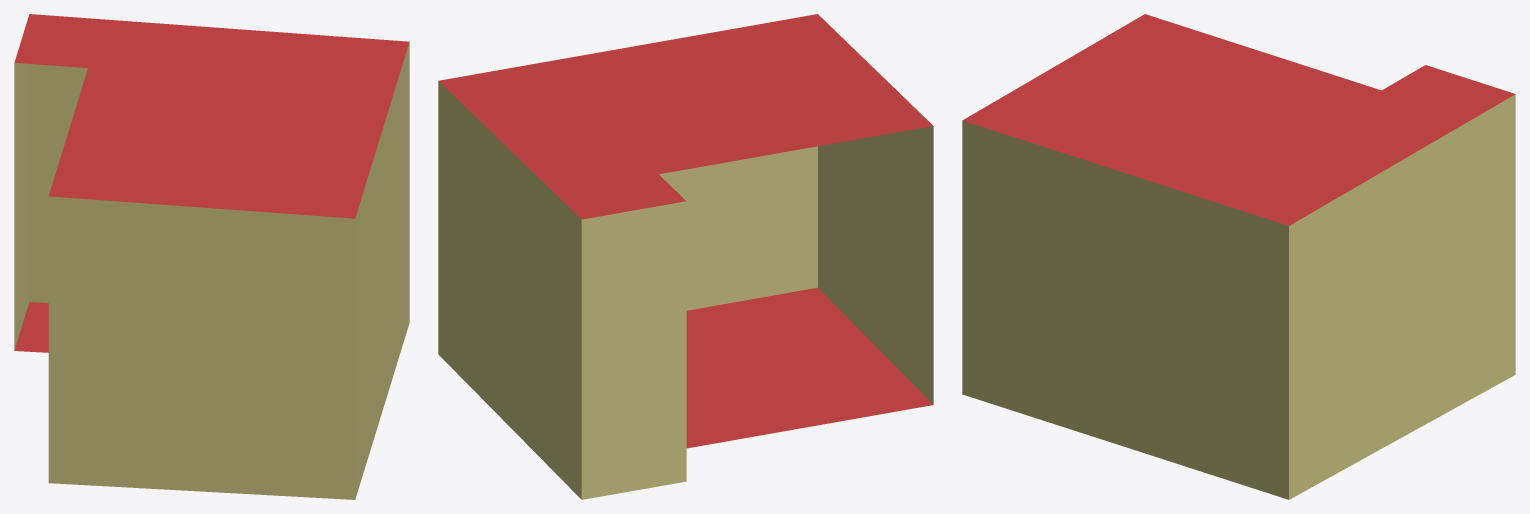
3 views of the same model, side by side, from view 1: azimuth 30°, elevation 25°; view 2: azimuth 150°, elevation 25°; view 3: azimuth 270°, elevation 25° (orthographic). The views are drawn at different scales.
Parts seen in each view (by area): view 1: group_4, group_3, group_5; view 2: group_4, group_3, group_5; view 3: group_4, group_3.
Boxes of the visible parts, x1,y1,x2,y2 form: group_4: [14, 42, 409, 499]; group_3: [14, 14, 409, 218]; group_5: [14, 302, 48, 352]; group_4: [438, 81, 933, 499]; group_3: [438, 14, 932, 219]; group_5: [686, 287, 932, 448]; group_4: [962, 94, 1515, 499]; group_3: [962, 14, 1515, 225].
Size of the model in its own units: 8.7 by 9.84 by 5.51.
